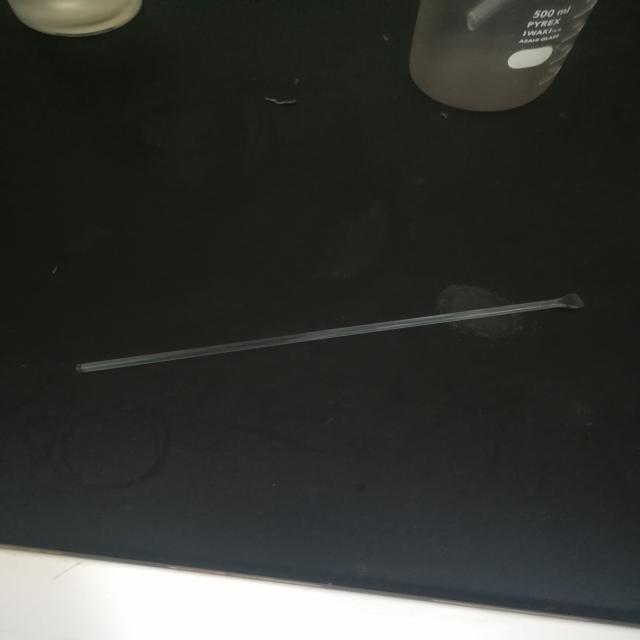Beaker: (388, 0, 605, 137)
Glass_Rod: (58, 273, 622, 399)
